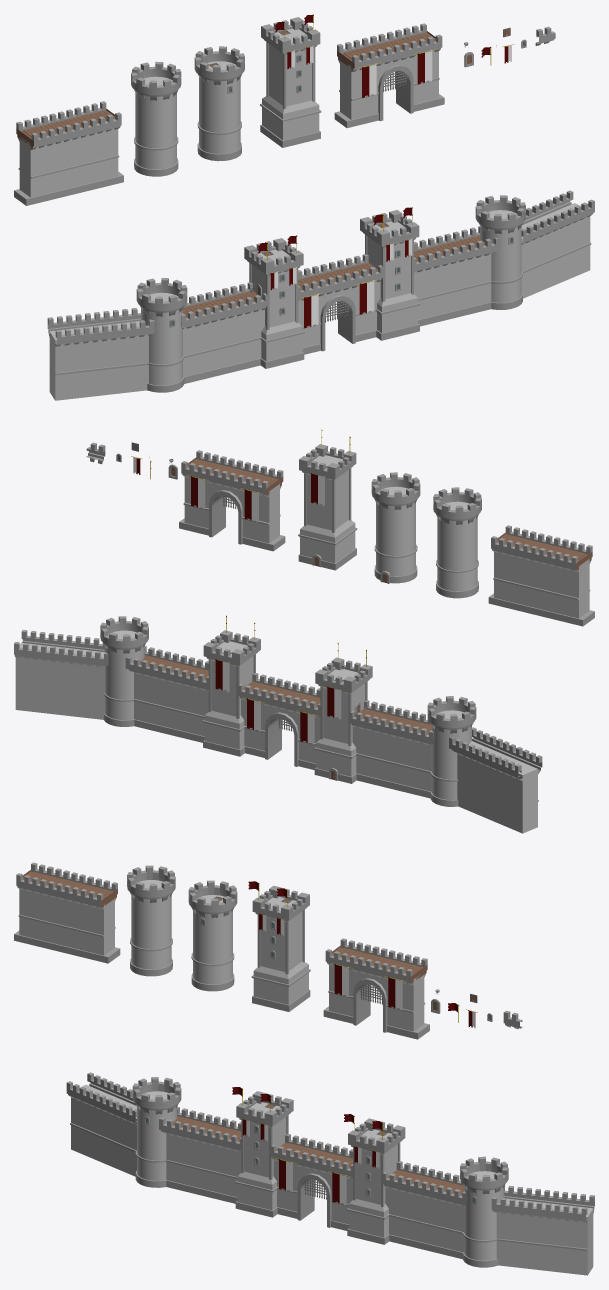
Rendered from modular_medieval_walls.glb.
The picture shows the model from 3 angles, top to bottom: view 1: azimuth 30°, elevation 25°; view 2: azimuth 150°, elevation 25°; view 3: azimuth 330°, elevation 25°; orthographic projection. The views are drawn at different scales.
Parts seen in each view (by area): view 1: Object_2, Object_6, Object_15, Object_4, Object_13, Object_14, Object_5, Object_9, Object_17, Object_11; view 2: Object_2, Object_6, Object_15, Object_13, Object_4, Object_9, Object_5, Object_14, Object_17; view 3: Object_2, Object_6, Object_15, Object_4, Object_13, Object_14, Object_5, Object_9, Object_17, Object_11.
Part boxes in pixels (x1,y1,x2,y2): Object_2: (18,28,590,400); Object_6: (14,17,591,383); Object_15: (16,23,594,346); Object_4: (258,14,508,328); Object_13: (16,109,484,326); Object_14: (210,28,509,295); Object_5: (244,212,419,275); Object_9: (274,44,511,326); Object_17: (134,142,522,392); Object_11: (209,27,525,320); Object_2: (15,455,590,833); Object_6: (100,444,594,800); Object_15: (14,442,592,780); Object_13: (140,533,592,743); Object_4: (136,430,366,742); Object_9: (133,456,341,744); Object_5: (203,632,372,693); Object_14: (171,457,387,779); Object_17: (104,565,478,806); Object_2: (19,880,593,1275); Object_6: (14,865,587,1259); Object_15: (16,862,594,1223); Object_4: (232,881,472,1203); Object_13: (22,870,464,1195); Object_14: (215,897,476,1168); Object_5: (236,1093,405,1154); Object_9: (246,915,475,1205); Object_17: (130,958,498,1267); Object_11: (201,896,490,1198).
Bounding box in the file's own units: 241 × 135 × 25.34.
